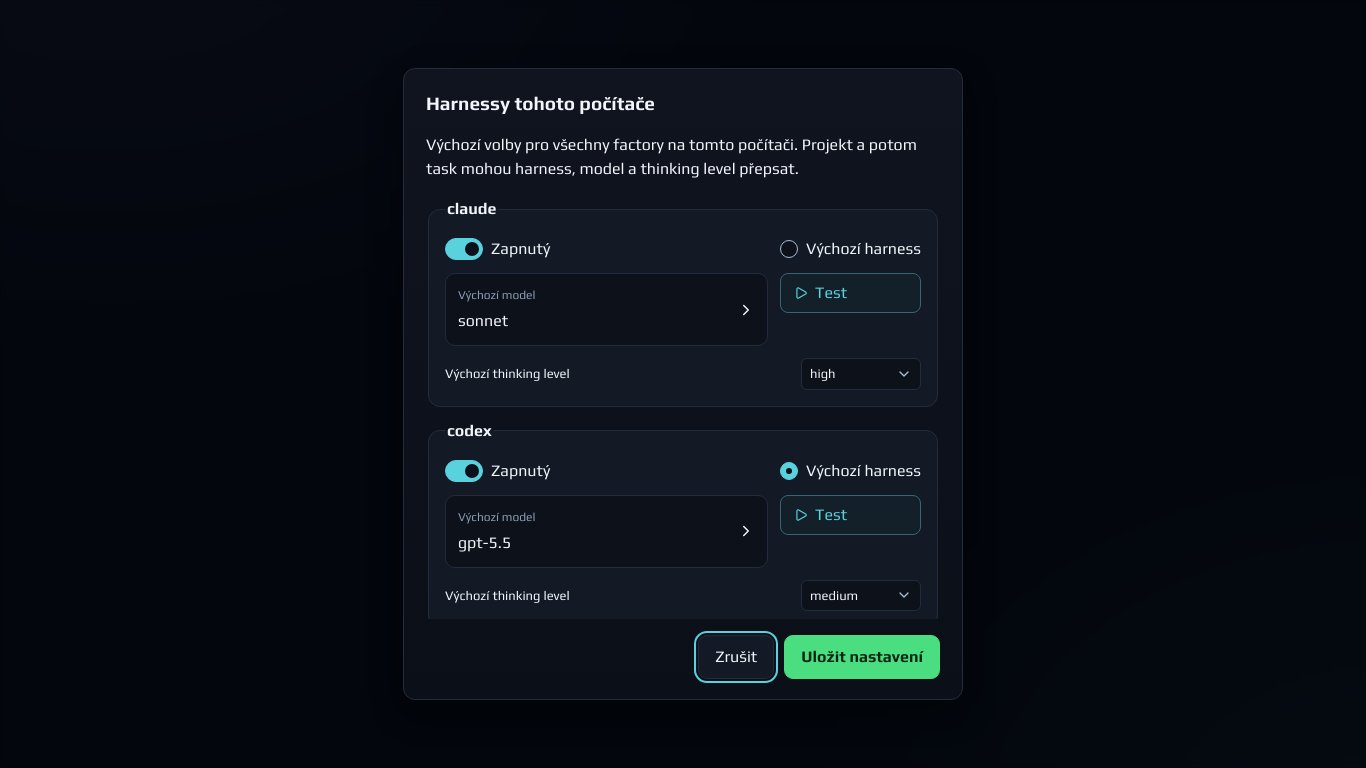
it: MachineHarnessesDialog › keeps failed saves visible for correction
Click the button "Uložit nastavení". click: (862, 657)
box: [784,635,940,679]
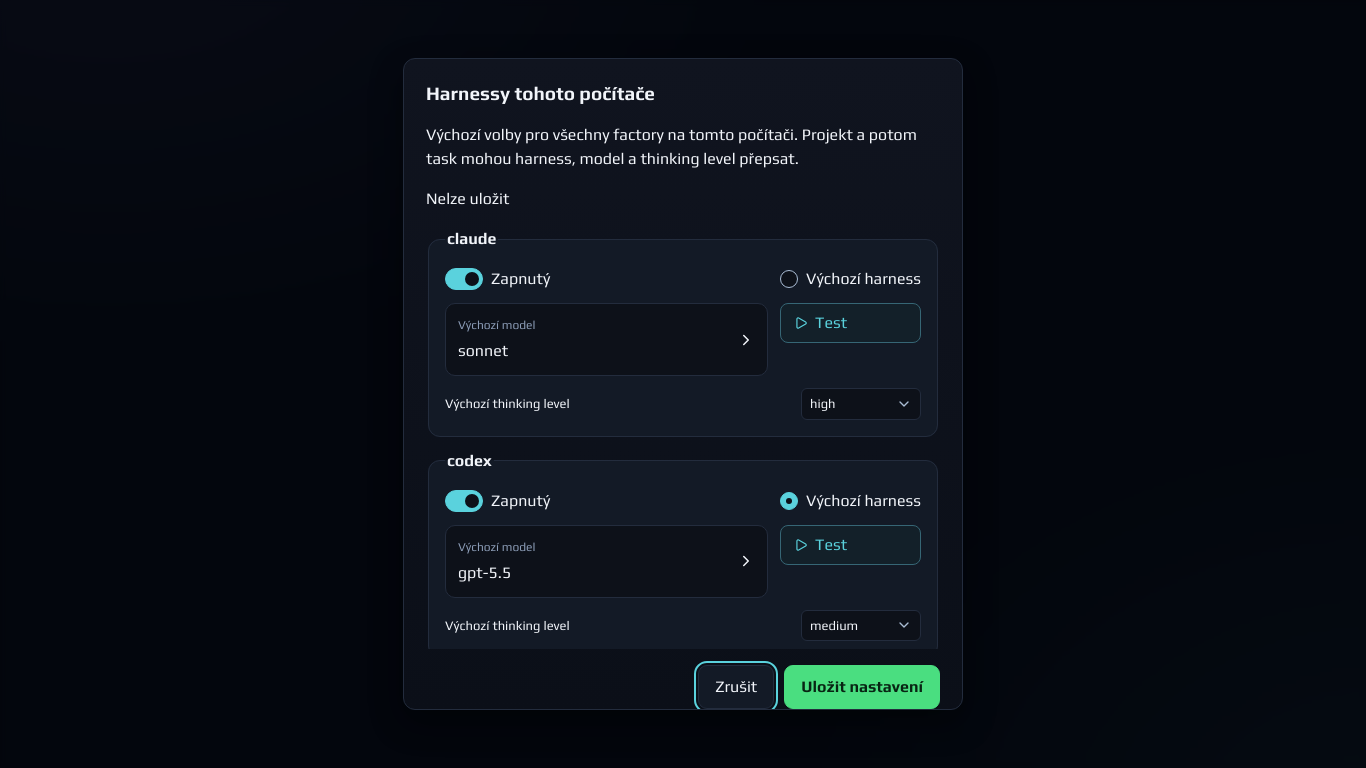
Check: the message "Nelze uložit" is shown, box [426,189,509,208]
